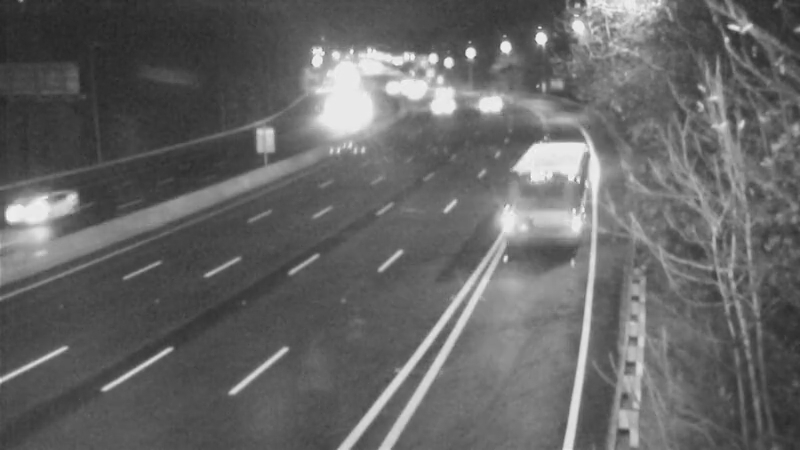vehicle: (500, 142, 580, 222), (1, 165, 80, 245), (365, 62, 415, 112), (387, 68, 437, 118), (418, 68, 468, 118), (460, 81, 510, 131), (417, 79, 467, 129)
